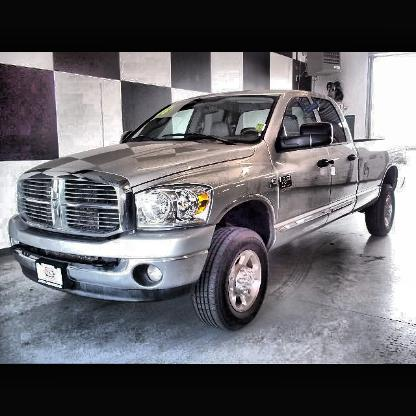Dodge Ram Pickup 3500 Quad Cab 2009: (10, 89, 403, 336)
